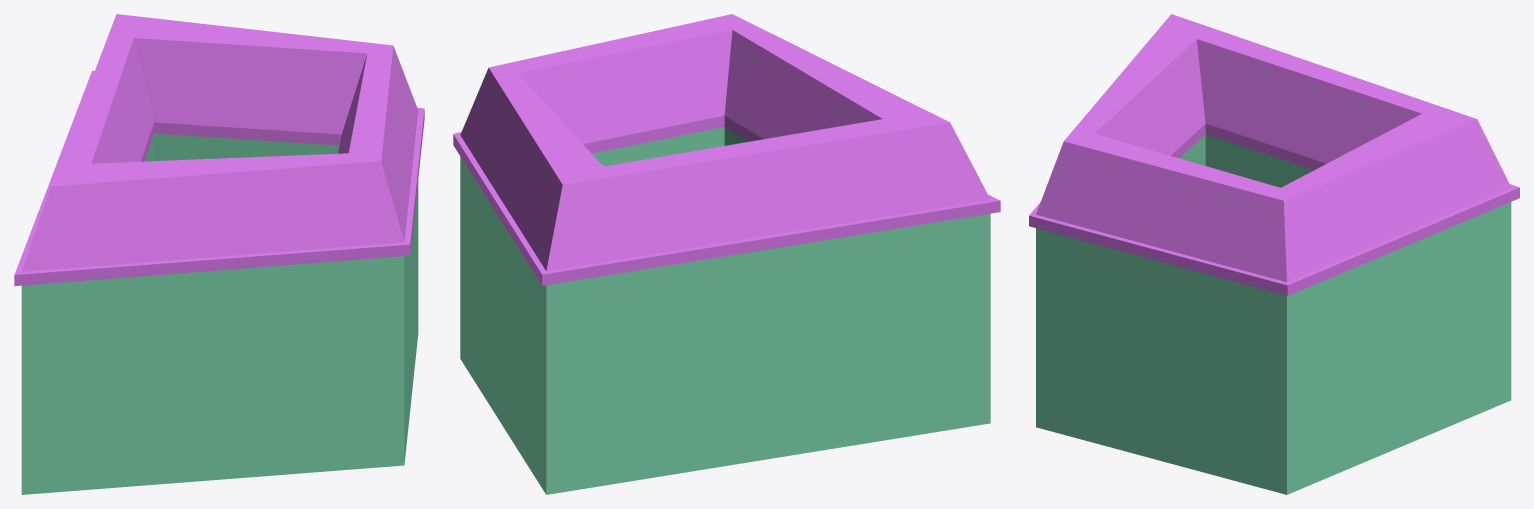
The model's file is Batiment13.fbx.
3 views of the same model, side by side, from view 1: azimuth 30°, elevation 25°; view 2: azimuth 150°, elevation 25°; view 3: azimuth 270°, elevation 25° (orthographic). The views are drawn at different scales.
Visible parts, largest first — view 1: Batiment13; view 2: Batiment13; view 3: Batiment13.
Part boxes in pixels (x1,y1,x2,y2): Batiment13: (14,14,424,494); Batiment13: (453,14,1000,494); Batiment13: (1029,14,1519,494).
Bounding box in the file's own units: 54.86 × 32.43 × 51.19.
